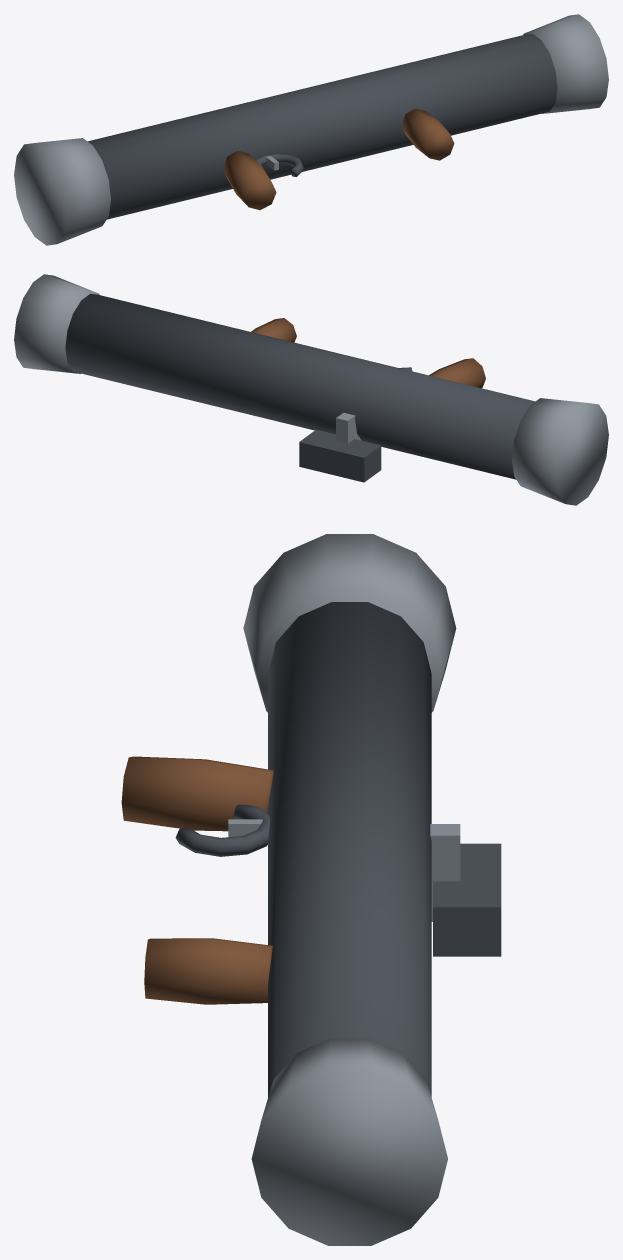
The model's file is weapon_launcher.glb.
The picture shows the model from 3 angles, top to bottom: view 1: azimuth 30°, elevation 25°; view 2: azimuth 150°, elevation 25°; view 3: azimuth 270°, elevation 25°; orthographic projection. The views are drawn at different scales.
Visible parts, largest first — view 1: tube, cone, bell, grip, fore, guard; view 2: tube, cone, bell, optic, grip, fore, mount; view 3: tube, bell, cone, grip, fore, optic, guard, mount.
Part boxes in pixels (left/top/right/bottom): tube: left=87, top=33, right=557, bottom=219; cone: left=14, top=138, right=110, bottom=245; bell: left=523, top=14, right=608, bottom=113; grip: left=223, top=150, right=276, bottom=210; fore: left=402, top=108, right=454, bottom=160; guard: left=255, top=153, right=303, bottom=176; tube: left=65, top=293, right=535, bottom=479; cone: left=512, top=398, right=608, bottom=505; bell: left=14, top=274, right=99, bottom=373; optic: left=299, top=429, right=381, bottom=482; grip: left=429, top=358, right=485, bottom=388; fore: left=251, top=318, right=296, bottom=342; mount: left=336, top=412, right=361, bottom=443; tube: left=268, top=602, right=431, bottom=1097; bell: left=251, top=1038, right=447, bottom=1245; cone: left=243, top=534, right=456, bottom=712; grip: left=121, top=756, right=273, bottom=831; fore: left=144, top=938, right=272, bottom=1004; optic: left=433, top=843, right=501, bottom=956; guard: left=175, top=804, right=269, bottom=856; mount: left=430, top=824, right=460, bottom=921.
Size of the model in its own units: 0.92 by 0.1521 by 0.2782.
